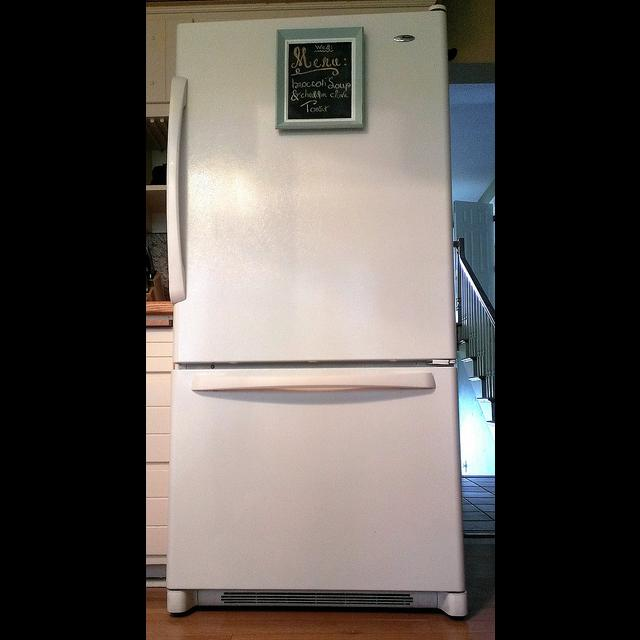Refrigerator: (165, 9, 471, 620)
